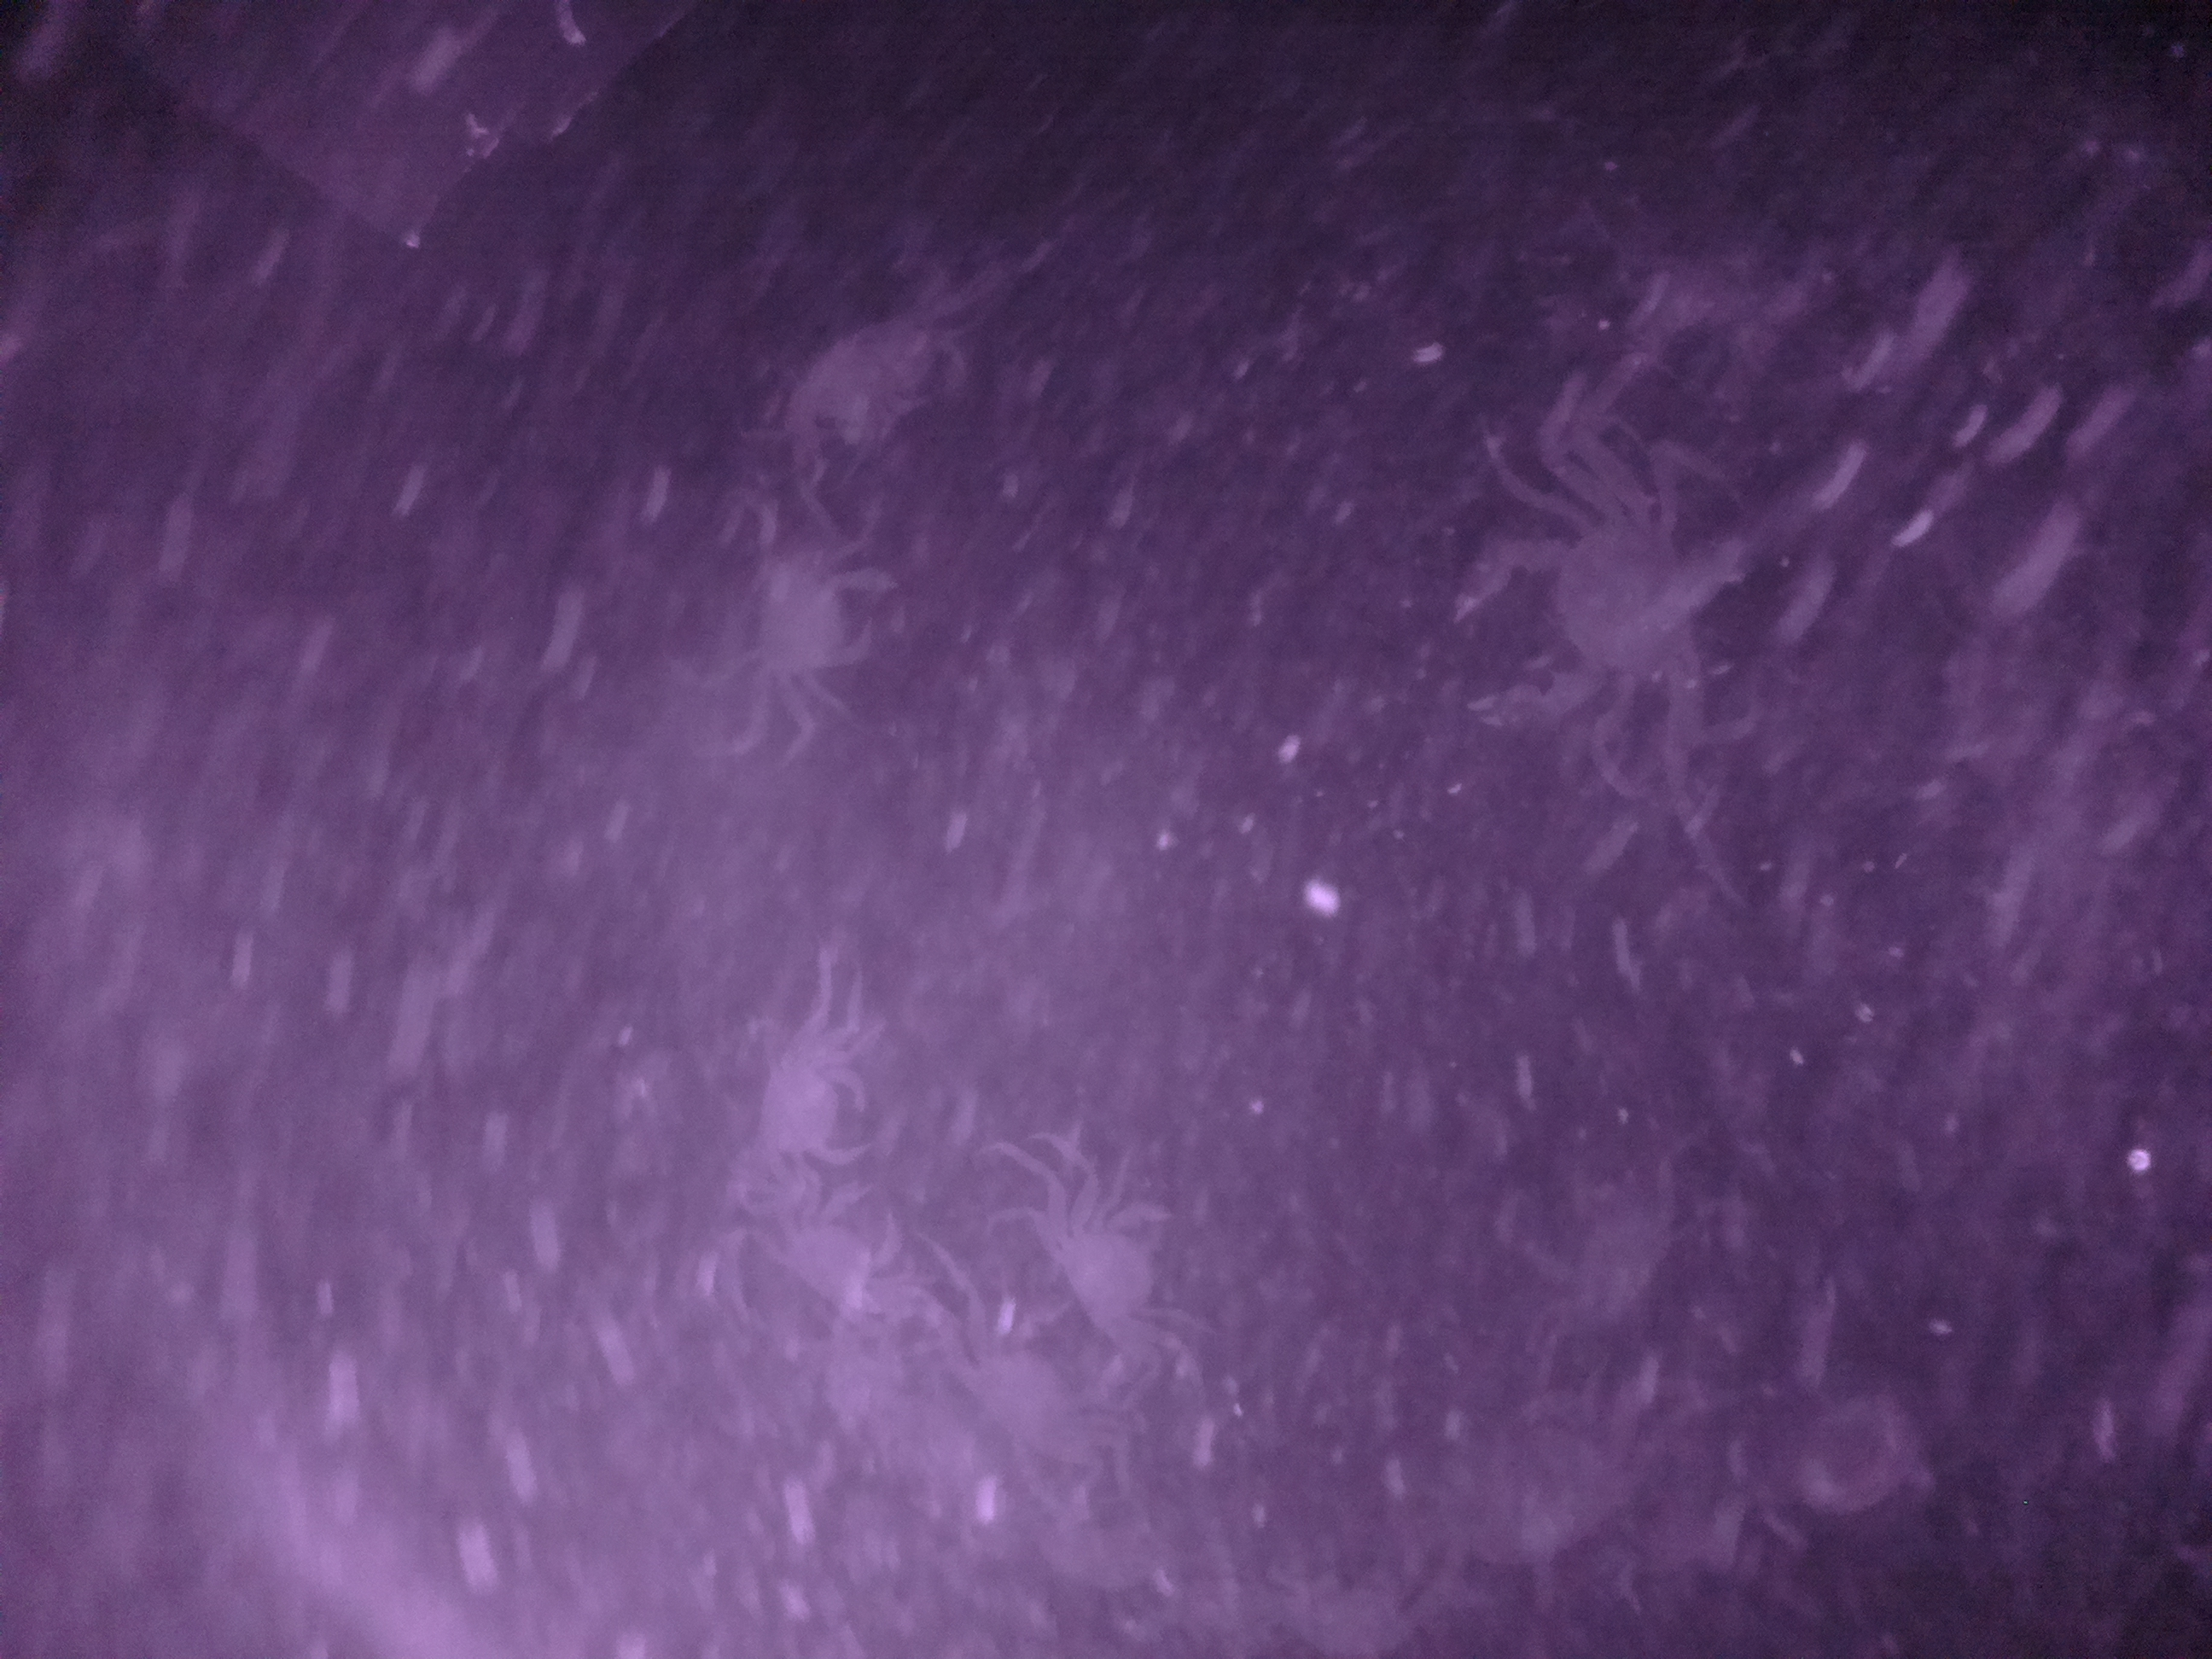Crab: (1458, 464, 1730, 753), (1015, 1182, 1204, 1373), (737, 518, 907, 701), (738, 1016, 883, 1183)
